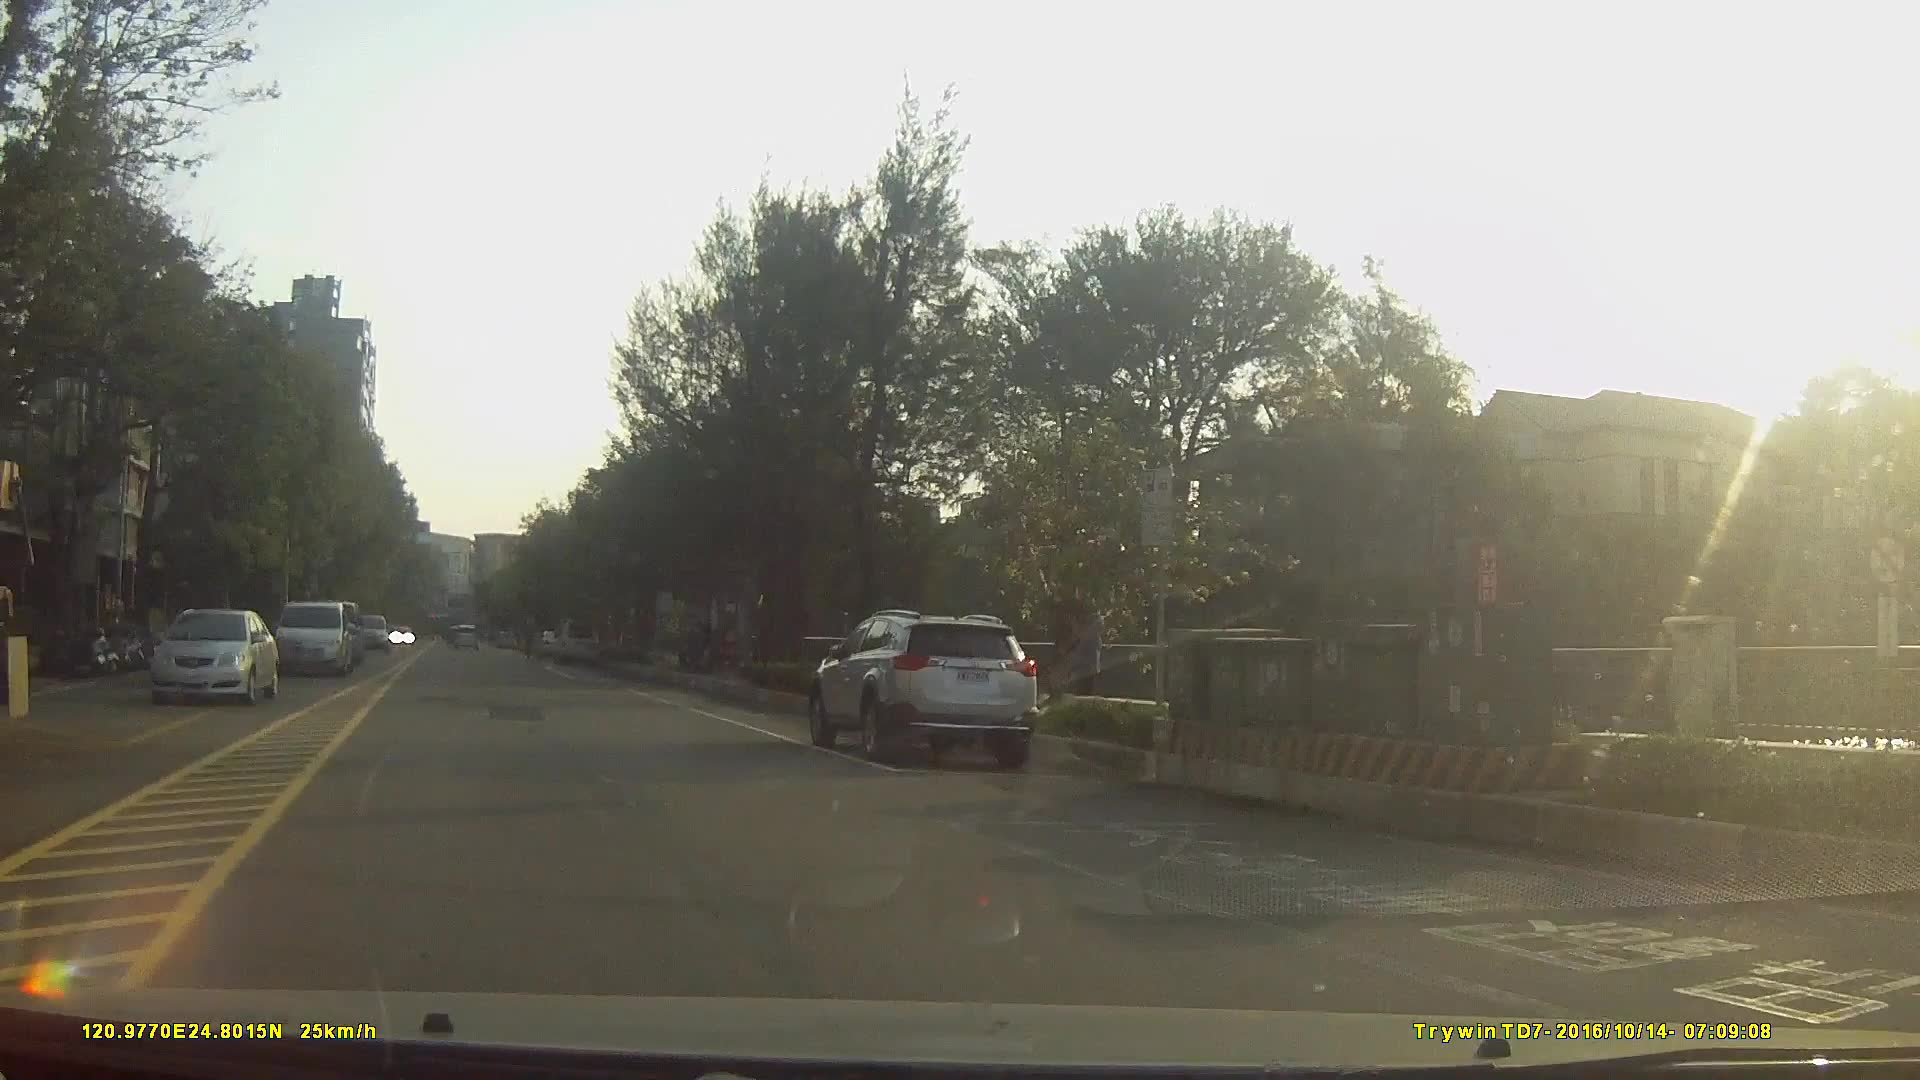vehicle: (810, 603, 1036, 760), (149, 608, 278, 704), (276, 600, 355, 676), (551, 618, 601, 665), (345, 608, 388, 655)
